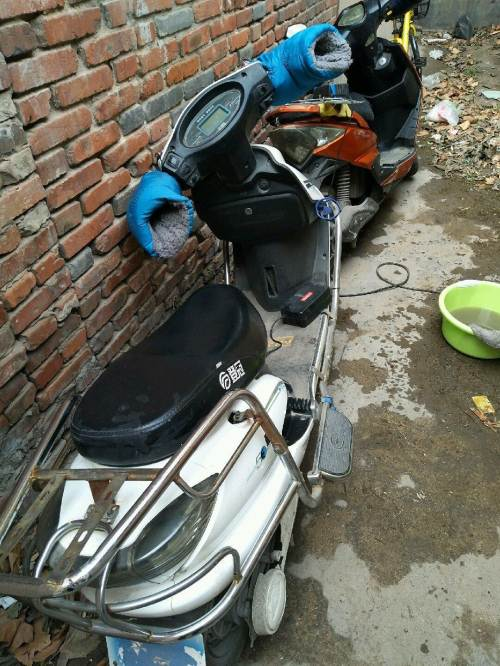电动车: (1, 22, 362, 662), (251, 1, 442, 258)
